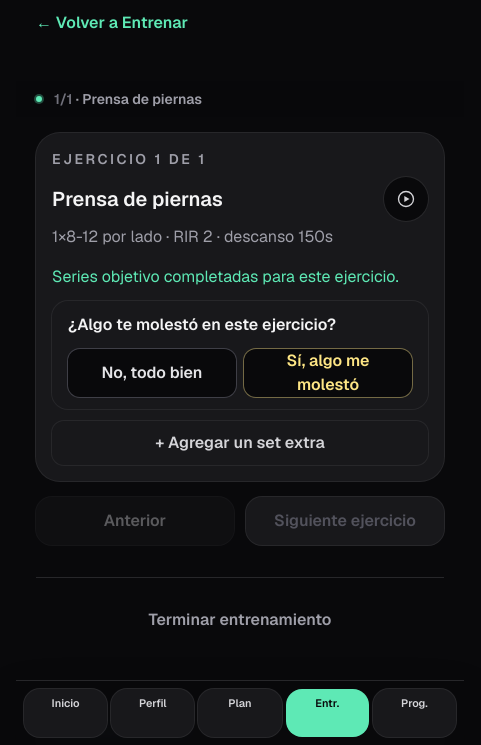
SessionRunner › bonus sets past targetSets › doesn't disable either side's radio while logging a bonus set on a unilateral exercise
Click the button "+ Agregar un set extra" at (240, 443), box [52,421,428,465]
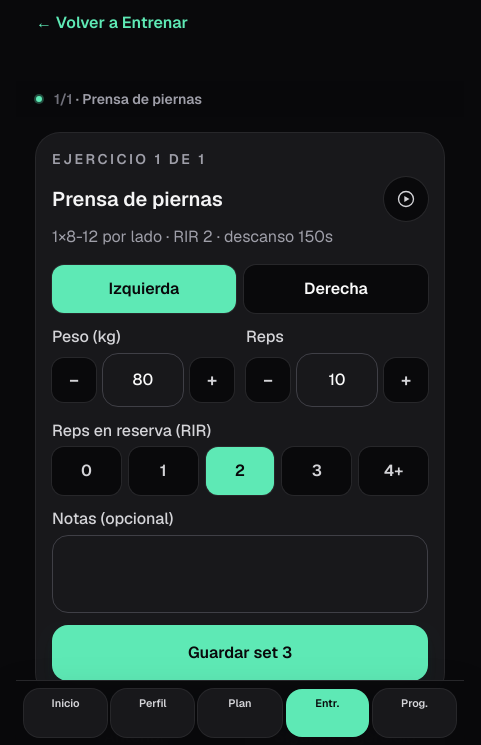
Expected: the radio button labelled "Izquierda" is enabled, [52,265,236,313]
Expected: the radio button labelled "Derecha" is enabled, [244,265,428,313]
